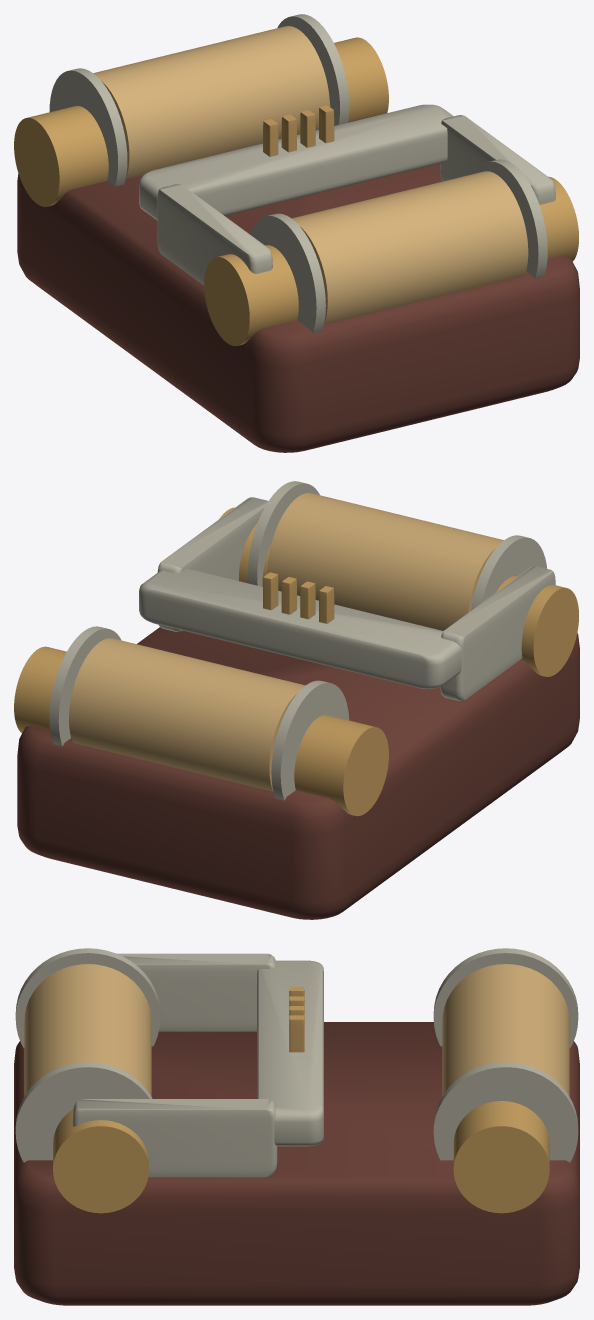
Rendered from Continental.glb.
3 renders of one model, top to bottom at view 1: azimuth 30°, elevation 25°; view 2: azimuth 150°, elevation 25°; view 3: azimuth 270°, elevation 25°, orthographic. The views are drawn at different scales.
Parts seen in each view (by area): view 1: Recorder casing, Wound paper (×2), Tape axle (×2), Reader throat, Feed reel lip (×4), Ribbon guard (×2), Reader spring (×4); view 2: Recorder casing, Wound paper (×2), Reader throat, Tape axle (×2), Feed reel lip (×4), Ribbon guard (×2), Reader spring (×4); view 3: Recorder casing, Wound paper (×2), Ribbon guard (×2), Feed reel lip (×4), Tape axle (×2), Reader throat, Reader spring.
Boxes of the visible parts, left/top/right/bottom form: Recorder casing: left=17, top=115, right=579, bottom=452; Wound paper (×2): left=93, top=26, right=528, bottom=324; Tape axle (×2): left=14, top=37, right=578, bottom=346; Reader throat: left=139, top=104, right=453, bottom=220; Feed reel lip (×4): left=49, top=14, right=547, bottom=333; Ribbon guard (×2): left=157, top=115, right=555, bottom=285; Reader spring (×4): left=263, top=105, right=334, bottom=156; Recorder casing: left=17, top=627, right=579, bottom=919; Wound paper (×2): left=69, top=493, right=503, bottom=791; Reader throat: left=139, top=568, right=461, bottom=688; Tape axle (×2): left=14, top=507, right=578, bottom=816; Feed reel lip (×4): left=49, top=481, right=546, bottom=800; Ribbon guard (×2): left=157, top=497, right=555, bottom=700; Reader spring (×4): left=263, top=572, right=334, bottom=623; Recorder casing: left=14, top=1022, right=579, bottom=1305; Wound paper (×2): left=24, top=964, right=569, bottom=1096; Ribbon guard (×2): left=72, top=953, right=277, bottom=1177; Feed reel lip (×4): left=15, top=948, right=578, bottom=1162; Tape axle (×2): left=53, top=1101, right=549, bottom=1213; Reader throat: left=257, top=960, right=323, bottom=1146; Reader spring: left=289, top=1015, right=304, bottom=1052.
Bounding box in the file's own units: 0.92 × 0.5675 × 1.3.
